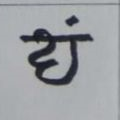anusvara: (66, 16, 78, 25)
